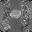people: (10, 8, 21, 19)
